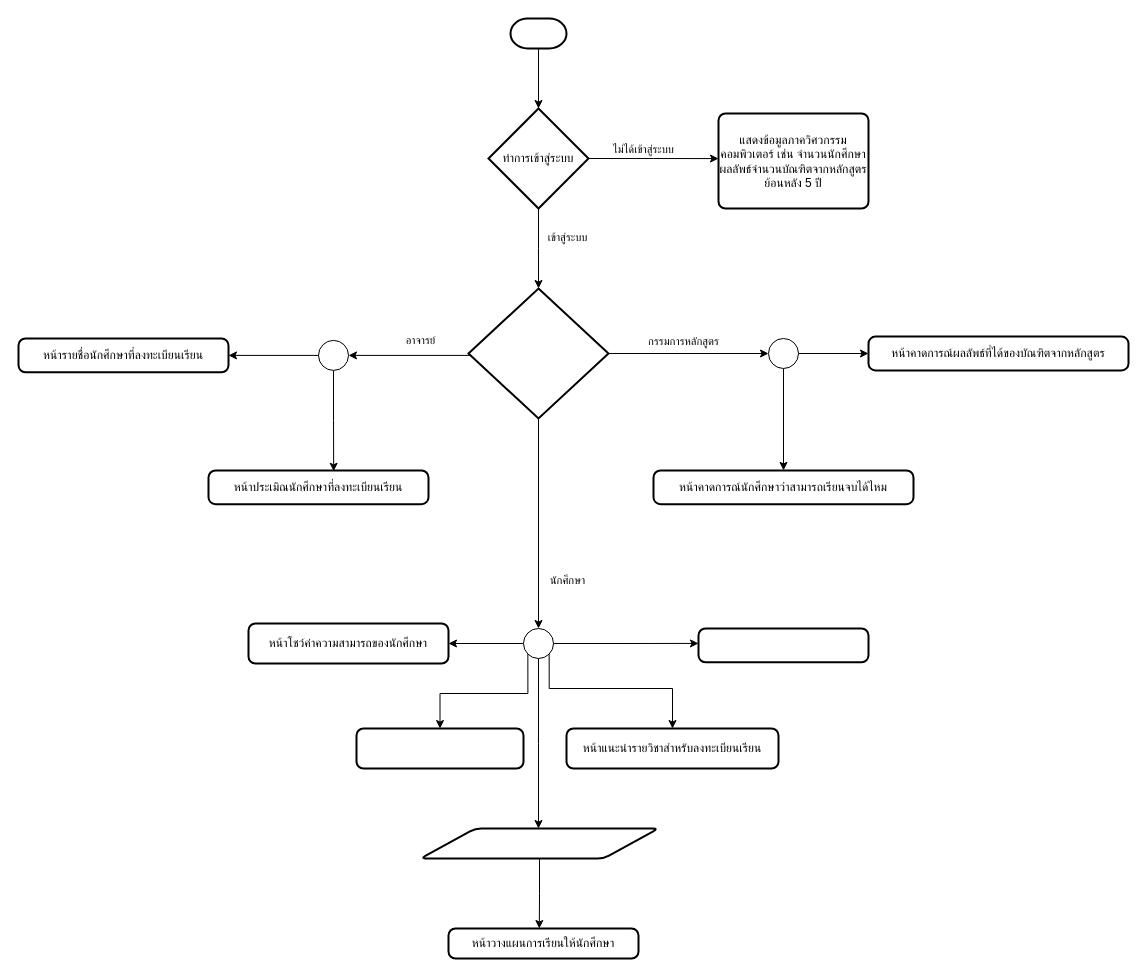
Image size: 1146x976. Some labels were removed from this diagram. The shapes that lost their labels are listed below. From the top down, each one's centre as x and y in pixels, then its label:
pixel 538 33: หน้าหลัก
pixel 538 353: เช็คประเภทผู้เข้าใช้งาน
pixel 783 645: หน้าการคาดการณ์เกรดนักศึกษา
pixel 439 748: หน้าคาดการณ์อนาคตนักศึกษา
pixel 539 843: ใส่ว่าอยากจบไปทำงานอะไร
